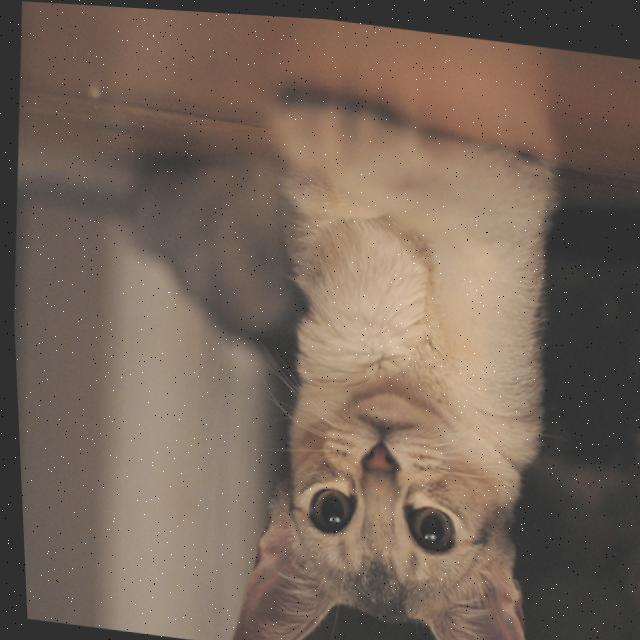Abyssinian: (89, 58, 586, 640)
